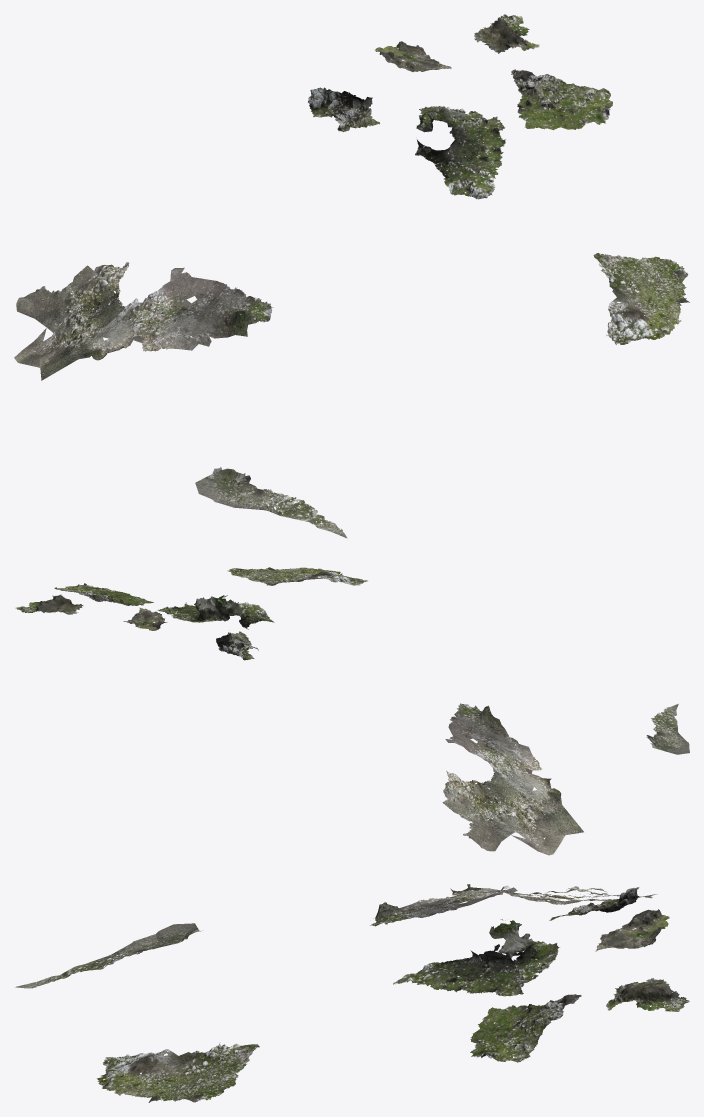
3 renders of one model, top to bottom at view 1: azimuth 30°, elevation 25°; view 2: azimuth 150°, elevation 25°; view 3: azimuth 270°, elevation 25°, orthographic. The views are drawn at different scales.
Bounding box in the file's own units: 102 × 35.95 × 87.7.
Materials: 1 (1 with a texture image).
